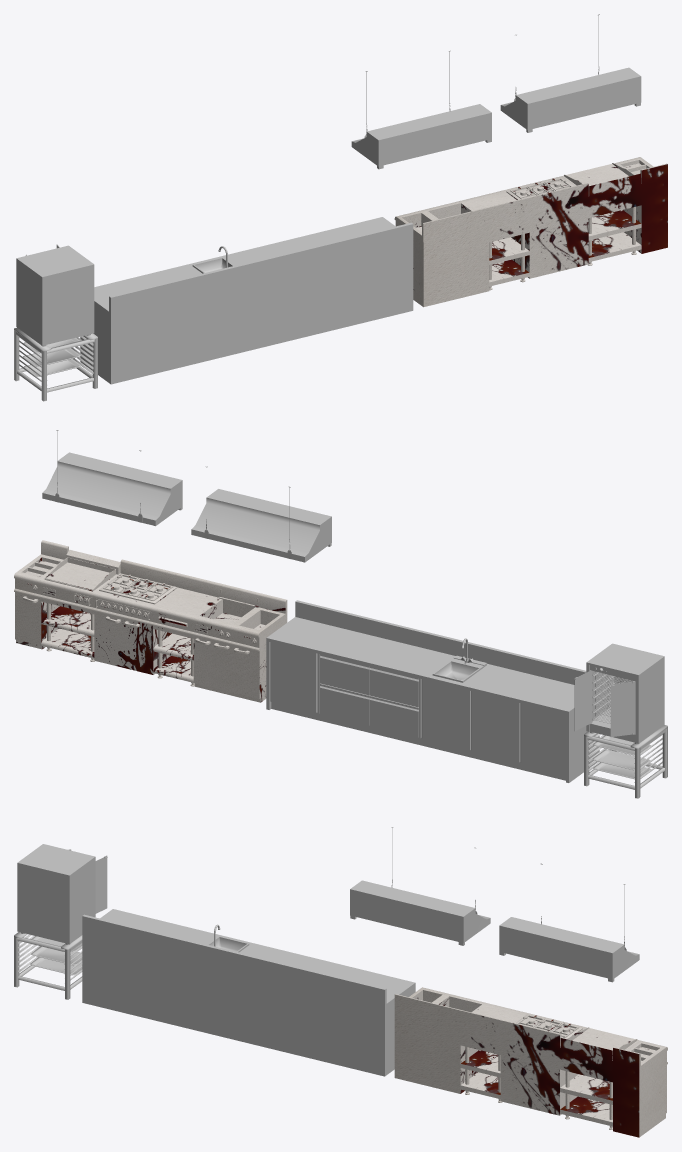
The picture shows the model from 3 angles, top to bottom: view 1: azimuth 30°, elevation 25°; view 2: azimuth 150°, elevation 25°; view 3: azimuth 330°, elevation 25°; orthographic projection.
Parts seen in each view (by area): view 1: object 4, object 1, object 2, SM_Kitchen_Range_Hood_02b.001, SM_Kitchen_Range_Hood_02b; view 2: object 4, object 1, object 2, SM_Kitchen_Range_Hood_02b, SM_Kitchen_Range_Hood_02b.001, object 5, object 8, object 6; view 3: object 4, object 1, object 2, SM_Kitchen_Range_Hood_02b.001, SM_Kitchen_Range_Hood_02b, object 8, object 6.
Boxes of the visible parts, x1=… form: object 4: x1=80, y1=217, x2=413, y2=384; object 1: x1=394, y1=157, x2=667, y2=307; object 2: x1=14, y1=245, x2=97, y2=401; SM_Kitchen_Range_Hood_02b.001: x1=351, y1=50, x2=491, y2=169; SM_Kitchen_Range_Hood_02b: x1=500, y1=14, x2=641, y2=132; object 4: x1=266, y1=600, x2=599, y2=782; object 1: x1=14, y1=540, x2=287, y2=702; object 2: x1=584, y1=643, x2=667, y2=798; SM_Kitchen_Range_Hood_02b: x1=42, y1=430, x2=182, y2=526; SM_Kitchen_Range_Hood_02b.001: x1=191, y1=466, x2=331, y2=562; object 5: x1=610, y1=681, x2=635, y2=737; object 8: x1=574, y1=670, x2=592, y2=730; object 6: x1=592, y1=749, x2=650, y2=770; object 4: x1=82, y1=909, x2=415, y2=1076; object 1: x1=394, y1=987, x2=667, y2=1137; object 2: x1=14, y1=844, x2=95, y2=999; SM_Kitchen_Range_Hood_02b.001: x1=350, y1=827, x2=490, y2=945; SM_Kitchen_Range_Hood_02b: x1=499, y1=863, x2=639, y2=982; object 8: x1=95, y1=855, x2=107, y2=913; object 6: x1=31, y1=946, x2=82, y2=965.
Bounding box in the file's own units: 11.22 × 3.85 × 1.24.
